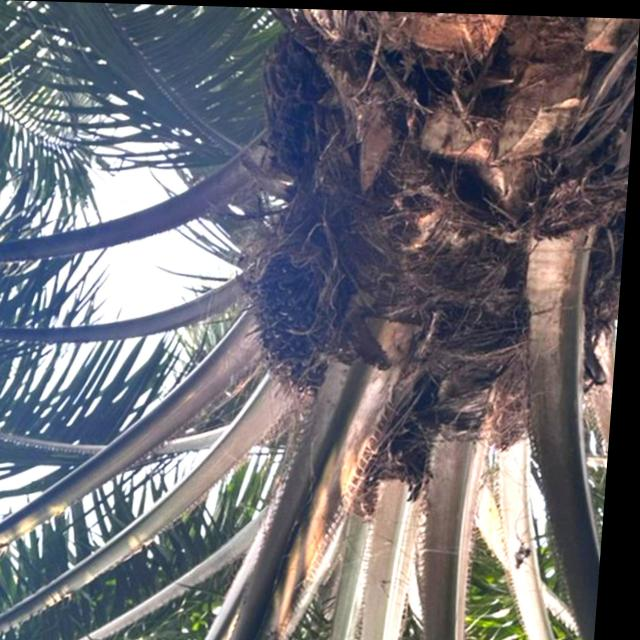unripe: (241, 243, 359, 397)
